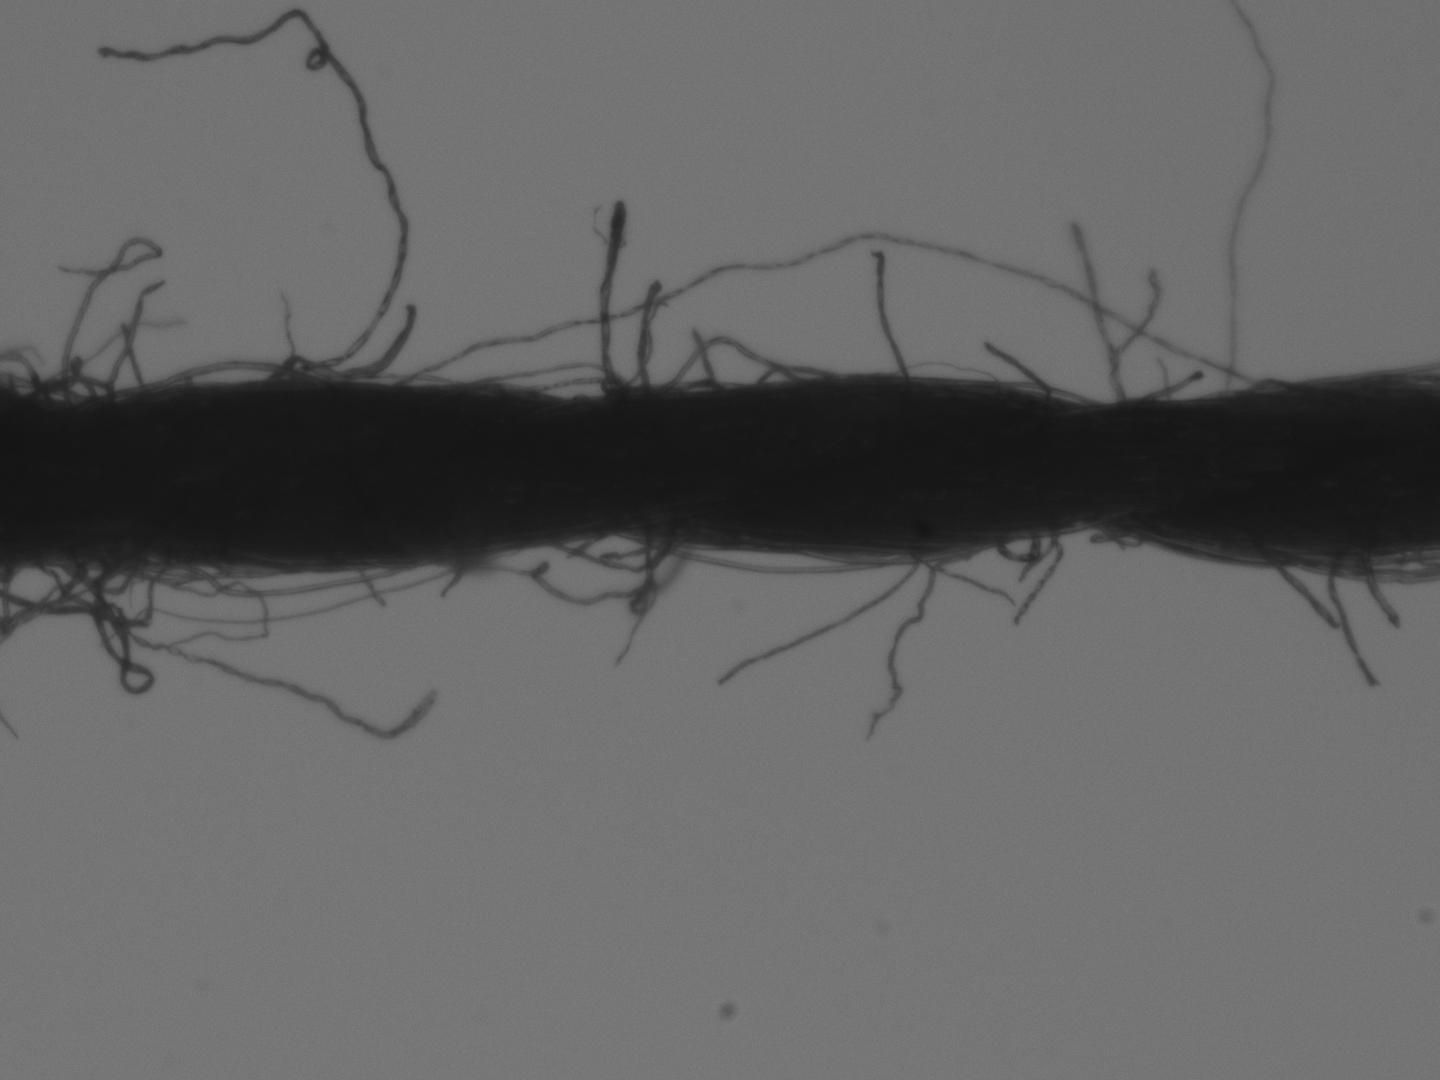loop_fiber: (391, 230, 1263, 399), (420, 524, 693, 614), (0, 549, 150, 699), (618, 528, 904, 577), (29, 540, 168, 625), (188, 560, 417, 599), (664, 335, 798, 394), (549, 520, 670, 574), (450, 363, 630, 398), (117, 556, 290, 589), (155, 361, 308, 388), (65, 547, 145, 591), (519, 373, 628, 396), (29, 373, 109, 400), (757, 360, 830, 388), (993, 531, 1059, 560), (666, 379, 730, 395)
protruding_fiber: (105, 9, 413, 382), (717, 554, 921, 690), (1227, 5, 1277, 390), (859, 554, 943, 737), (1327, 557, 1379, 690), (598, 202, 628, 405), (1263, 552, 1335, 633), (1014, 537, 1061, 625), (876, 248, 907, 383), (636, 279, 660, 387)
